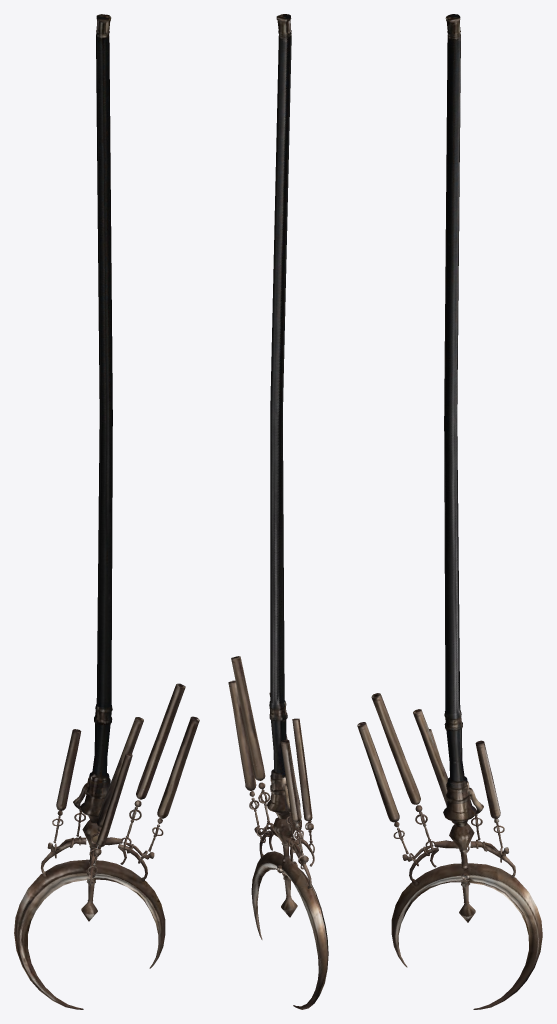
Rendered from moon_staff.glb.
3 views of the same model, side by side, from view 1: azimuth 90°, elevation 25°; view 2: azimuth 210°, elevation 25°; view 3: azimuth 270°, elevation 25° (orthographic).
Visible parts, largest first — view 1: weapon; view 2: weapon; view 3: weapon.
Boxes of the visible parts, x1,y1,x2,y2 form: weapon: (14, 14, 199, 1009); weapon: (228, 14, 328, 1009); weapon: (357, 14, 542, 1009).
Bounding box in the file's own units: 0.1238 × 2.53 × 0.4288.
1 material, 1 textured.
